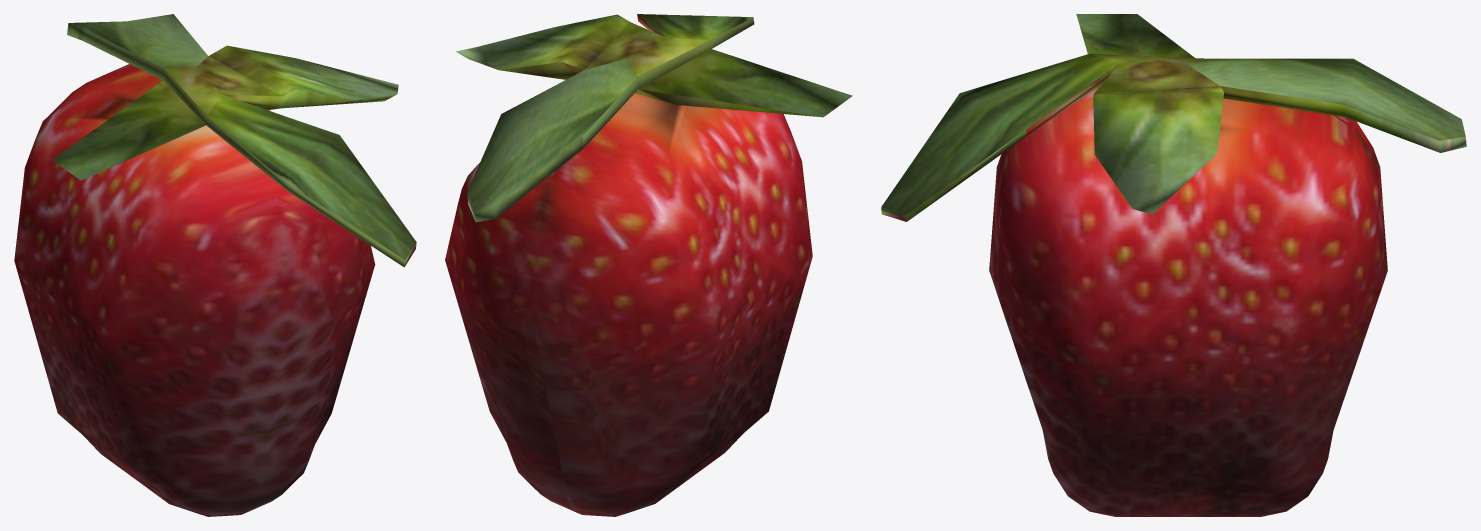
Rendered from strawberry.obj.
3 views of the same model, side by side, from view 1: azimuth 30°, elevation 25°; view 2: azimuth 150°, elevation 25°; view 3: azimuth 270°, elevation 25° (orthographic). The views are drawn at different scales.
Bounding box in the file's own units: 26.56 × 30.01 × 35.91.
1 material, 1 textured.
